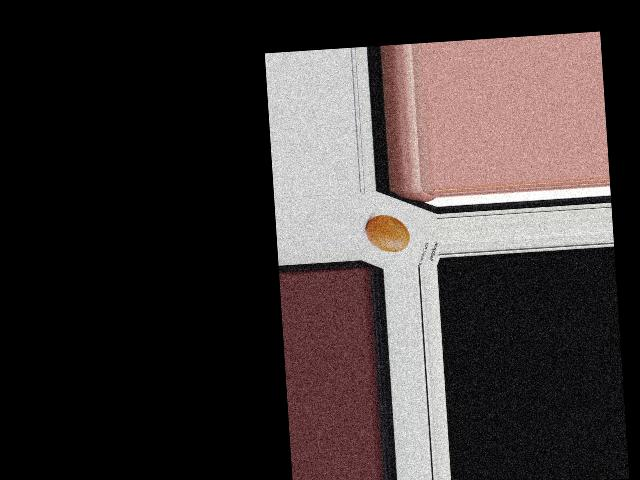egg: (364, 213, 410, 253)
